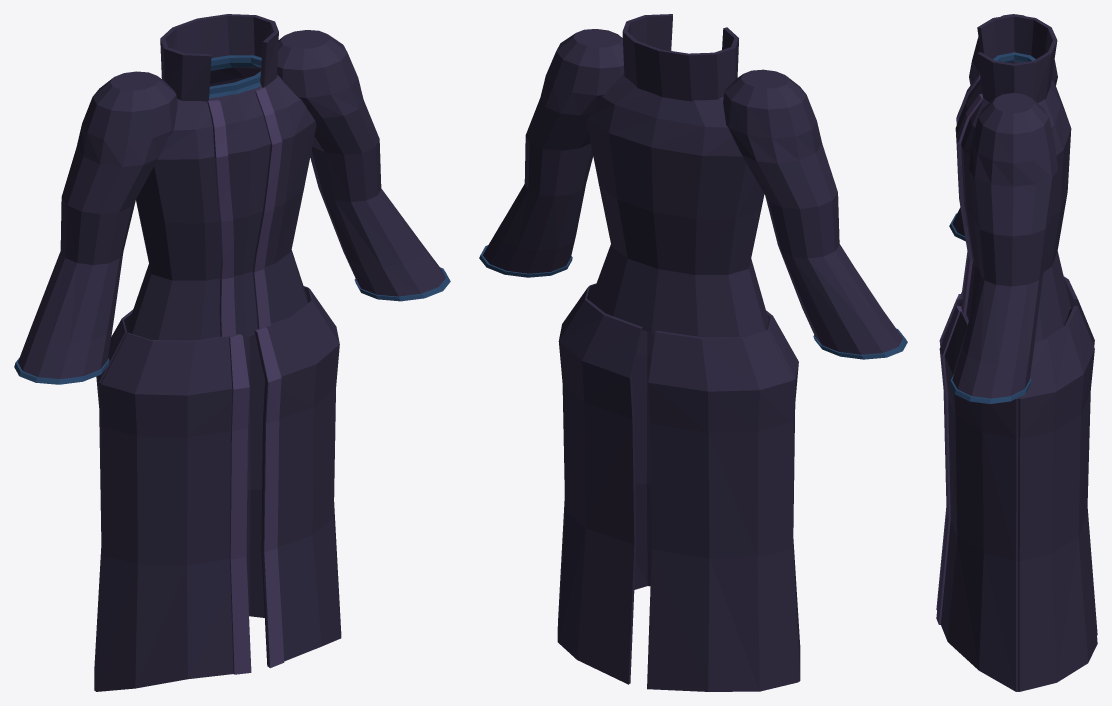
The model's file is dark_robe-female.glb.
3 renders of one model, left to right at view 1: azimuth 30°, elevation 25°; view 2: azimuth 150°, elevation 25°; view 3: azimuth 270°, elevation 25°, orthographic. The views are drawn at different scales.
Visible parts, largest first — view 1: Flowing robe skirt -1, Dark robe torso, Flowing robe skirt 1, cloth long sleeve -1, cloth long sleeve 1, Standing robe collar, Robe skirt bound opening -1, Robe skirt bound opening 1, Robe front facing -1, Robe front facing 1, Fitted tunic neckline; view 2: Flowing robe skirt -1, Dark robe torso, Flowing robe skirt 1, cloth long sleeve -1, cloth long sleeve 1, Standing robe collar; view 3: Flowing robe skirt 1, cloth long sleeve 1, Dark robe torso, Standing robe collar, Robe skirt bound opening 1, Robe front facing 1, Flowing robe skirt -1, cloth long sleeve -1, Sleeve cuff binding 1, Fitted tunic neckline, Robe skirt bound opening -1, Robe front facing -1.
Part boxes in pixels (x1=…): Flowing robe skirt -1: x1=94, y1=310, x2=240, y2=691; Dark robe torso: x1=128, y1=67, x2=316, y2=340; Flowing robe skirt 1: x1=243, y1=286, x2=341, y2=666; cloth long sleeve -1: x1=18, y1=71, x2=177, y2=378; cloth long sleeve 1: x1=277, y1=30, x2=445, y2=296; Standing robe collar: x1=160, y1=14, x2=278, y2=101; Robe skirt bound opening -1: x1=229, y1=334, x2=251, y2=674; Robe skirt bound opening 1: x1=256, y1=327, x2=284, y2=668; Robe front facing -1: x1=207, y1=100, x2=235, y2=337; Robe front facing 1: x1=252, y1=87, x2=282, y2=329; Fitted tunic neckline: x1=209, y1=55, x2=261, y2=98; Flowing robe skirt -1: x1=647, y1=310, x2=800, y2=691; Dark robe torso: x1=586, y1=73, x2=768, y2=337; Flowing robe skirt 1: x1=557, y1=283, x2=654, y2=684; cloth long sleeve -1: x1=723, y1=69, x2=902, y2=354; cloth long sleeve 1: x1=483, y1=29, x2=624, y2=273; Standing robe collar: x1=622, y1=14, x2=738, y2=101; Flowing robe skirt 1: x1=940, y1=306, x2=1097, y2=691; cloth long sleeve 1: x1=952, y1=93, x2=1057, y2=398; Dark robe torso: x1=955, y1=79, x2=1071, y2=341; Standing robe collar: x1=977, y1=14, x2=1057, y2=102; Robe skirt bound opening 1: x1=936, y1=306, x2=962, y2=624; Robe front facing 1: x1=956, y1=94, x2=983, y2=313; Flowing robe skirt -1: x1=941, y1=276, x2=1097, y2=635; cloth long sleeve -1: x1=952, y1=14, x2=1057, y2=236; Sleeve cuff binding 1: x1=949, y1=374, x2=1031, y2=403; Fitted tunic neckline: x1=980, y1=52, x2=1035, y2=86; Robe skirt bound opening -1: x1=936, y1=294, x2=960, y2=609; Robe front facing -1: x1=956, y1=74, x2=980, y2=296.
Bounding box in the file's own units: 4.17 × 5.91 × 1.44.
